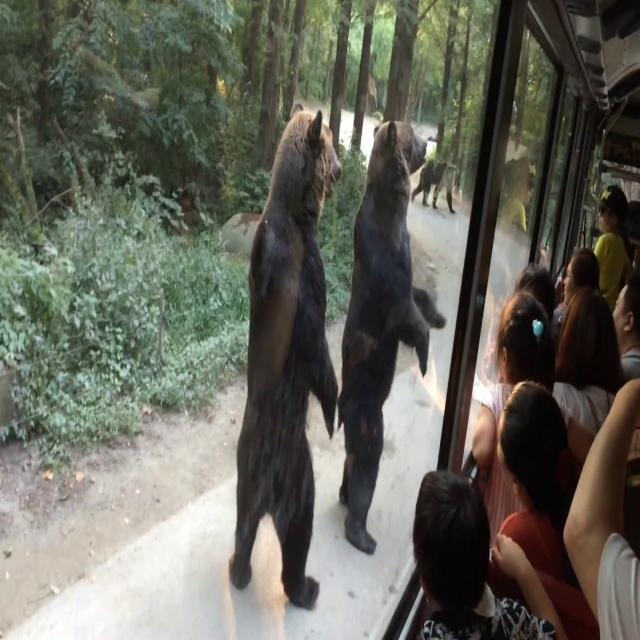body: (470, 286, 598, 556), (494, 377, 601, 639), (407, 467, 567, 639), (551, 281, 628, 482), (490, 151, 566, 351), (572, 366, 640, 551), (550, 244, 602, 354), (592, 183, 632, 315), (611, 270, 639, 379), (624, 190, 640, 270)
